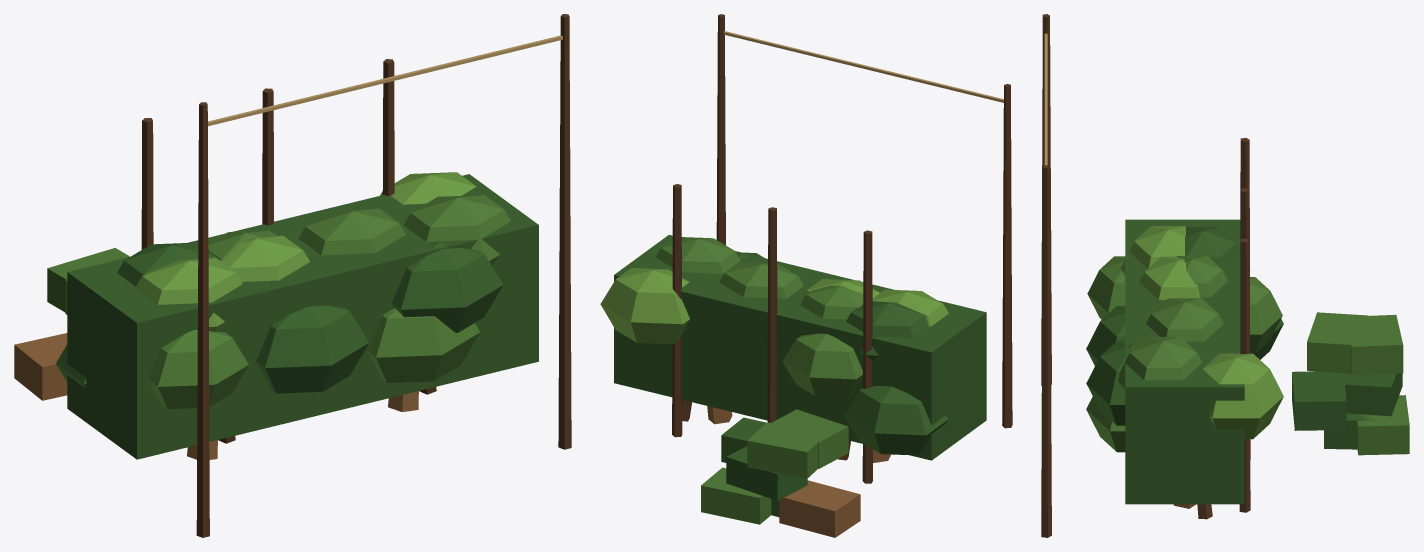
File: hedge_site.glb
3 views of the same model, side by side, from view 1: azimuth 30°, elevation 25°; view 2: azimuth 150°, elevation 25°; view 3: azimuth 270°, elevation 25° (orthographic). The views are drawn at different scales.
Visible parts, largest first — view 1: wall_hedge_building; view 2: wall_hedge_building; view 3: wall_hedge_building.
Boxes of the visible parts, x1,y1,x2,y2 form: wall_hedge_building: [14, 14, 571, 537]; wall_hedge_building: [600, 14, 1012, 537]; wall_hedge_building: [1041, 14, 1409, 537].
Bounding box in the file's own units: 2.05 × 2.06 × 1.86.
